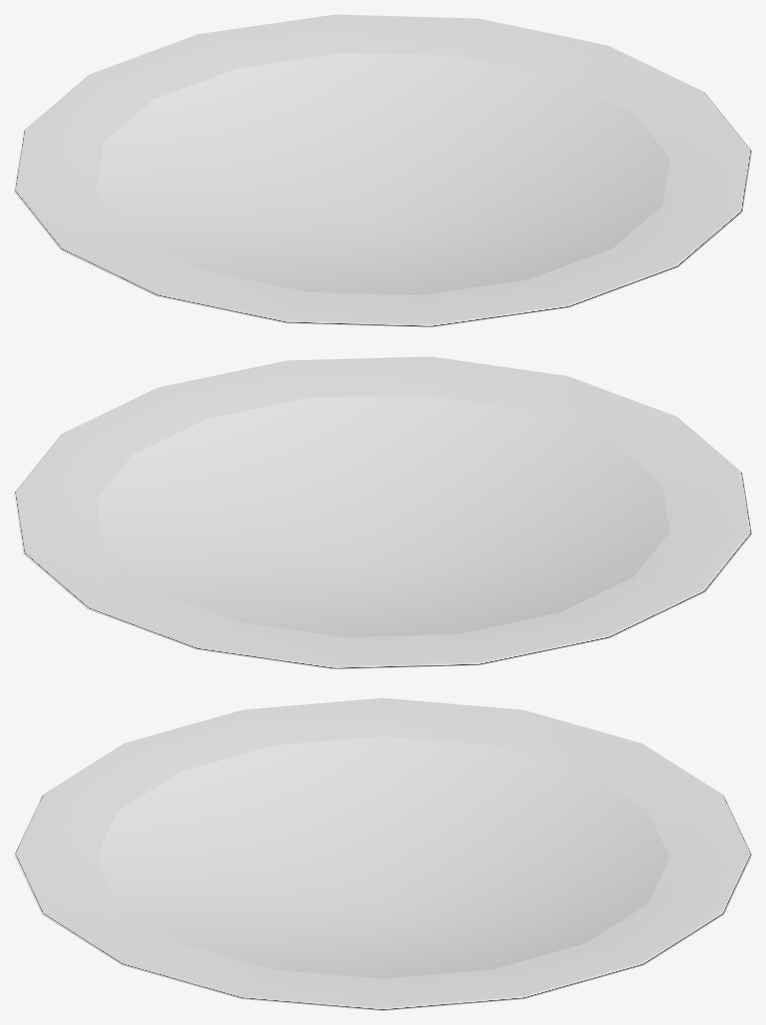
Rendered from 0-plateDeep.fbx.
3 renders of one model, top to bottom at view 1: azimuth 30°, elevation 25°; view 2: azimuth 150°, elevation 25°; view 3: azimuth 270°, elevation 25°, orthographic.
Visible parts, largest first — view 1: plateDeep; view 2: plateDeep; view 3: plateDeep.
Boxes of the visible parts, x1,y1,x2,y2 form: plateDeep: (14,14,751,327); plateDeep: (14,356,751,669); plateDeep: (14,698,751,1010).
Bounding box in the file's own units: 0.3777 × 0.0345 × 0.3777.
1 material, 1 textured.
